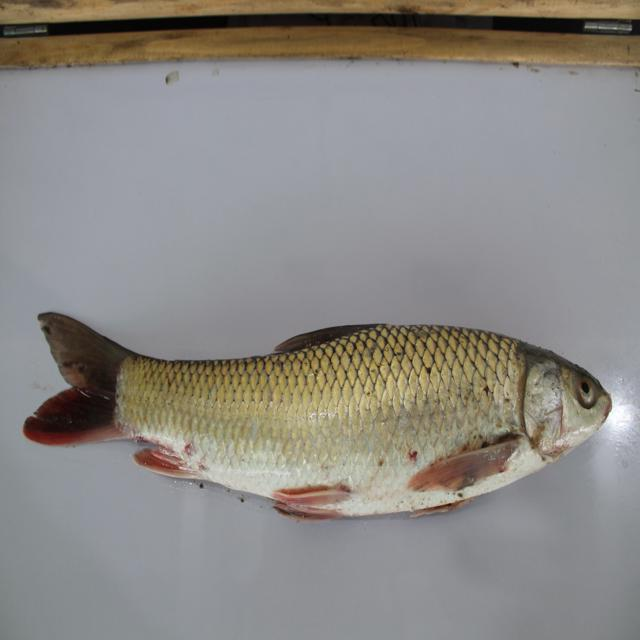Mori: (23, 297, 617, 525)
